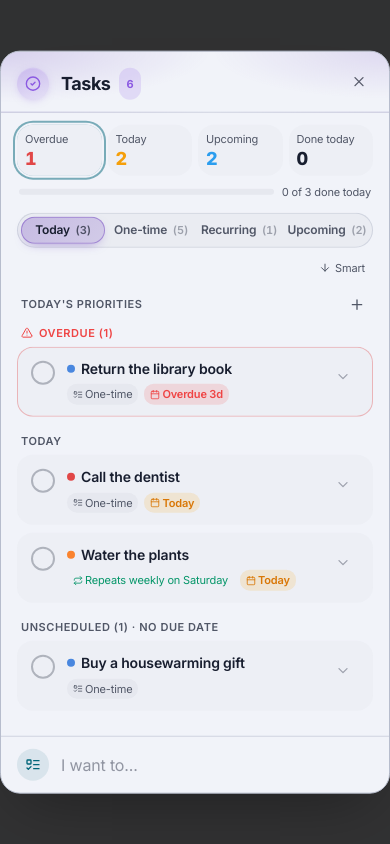
Test: TasksPopup — One-time vs Recurring › the One-time tab lists every non-repeating task, grouped by due date
Click the tab with test id "task-tab-onetime" at (151,230), box [109,216,193,244]
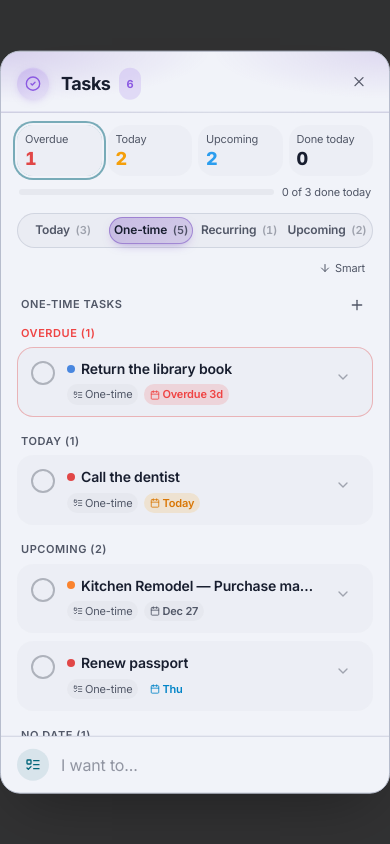
Expected: the element with test id "section-onetime-today" shows "Call the dentist", [67,467,315,513]
Expected: the element with test id "section-onetime-later" shows "Renew passport", [67,653,315,699]
Expected: the element with test id "section-onetime-later" shows "Kitchen Remodel — Purchase materials", [67,575,315,621]
